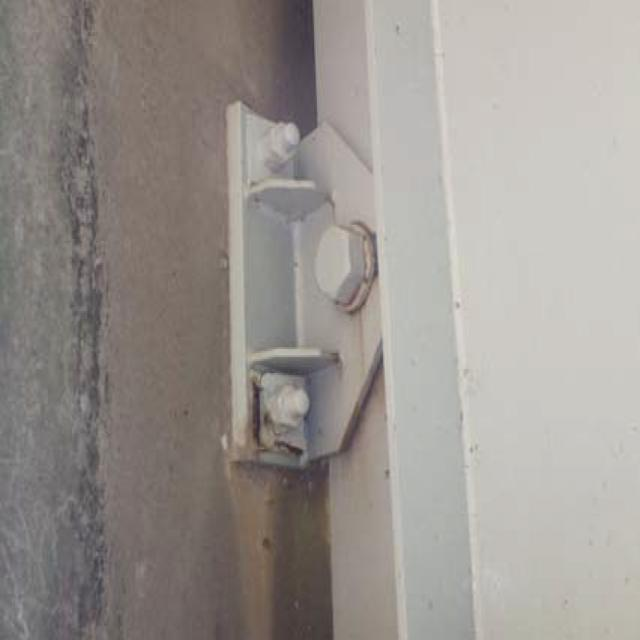corrosion: (214, 369, 317, 474)
